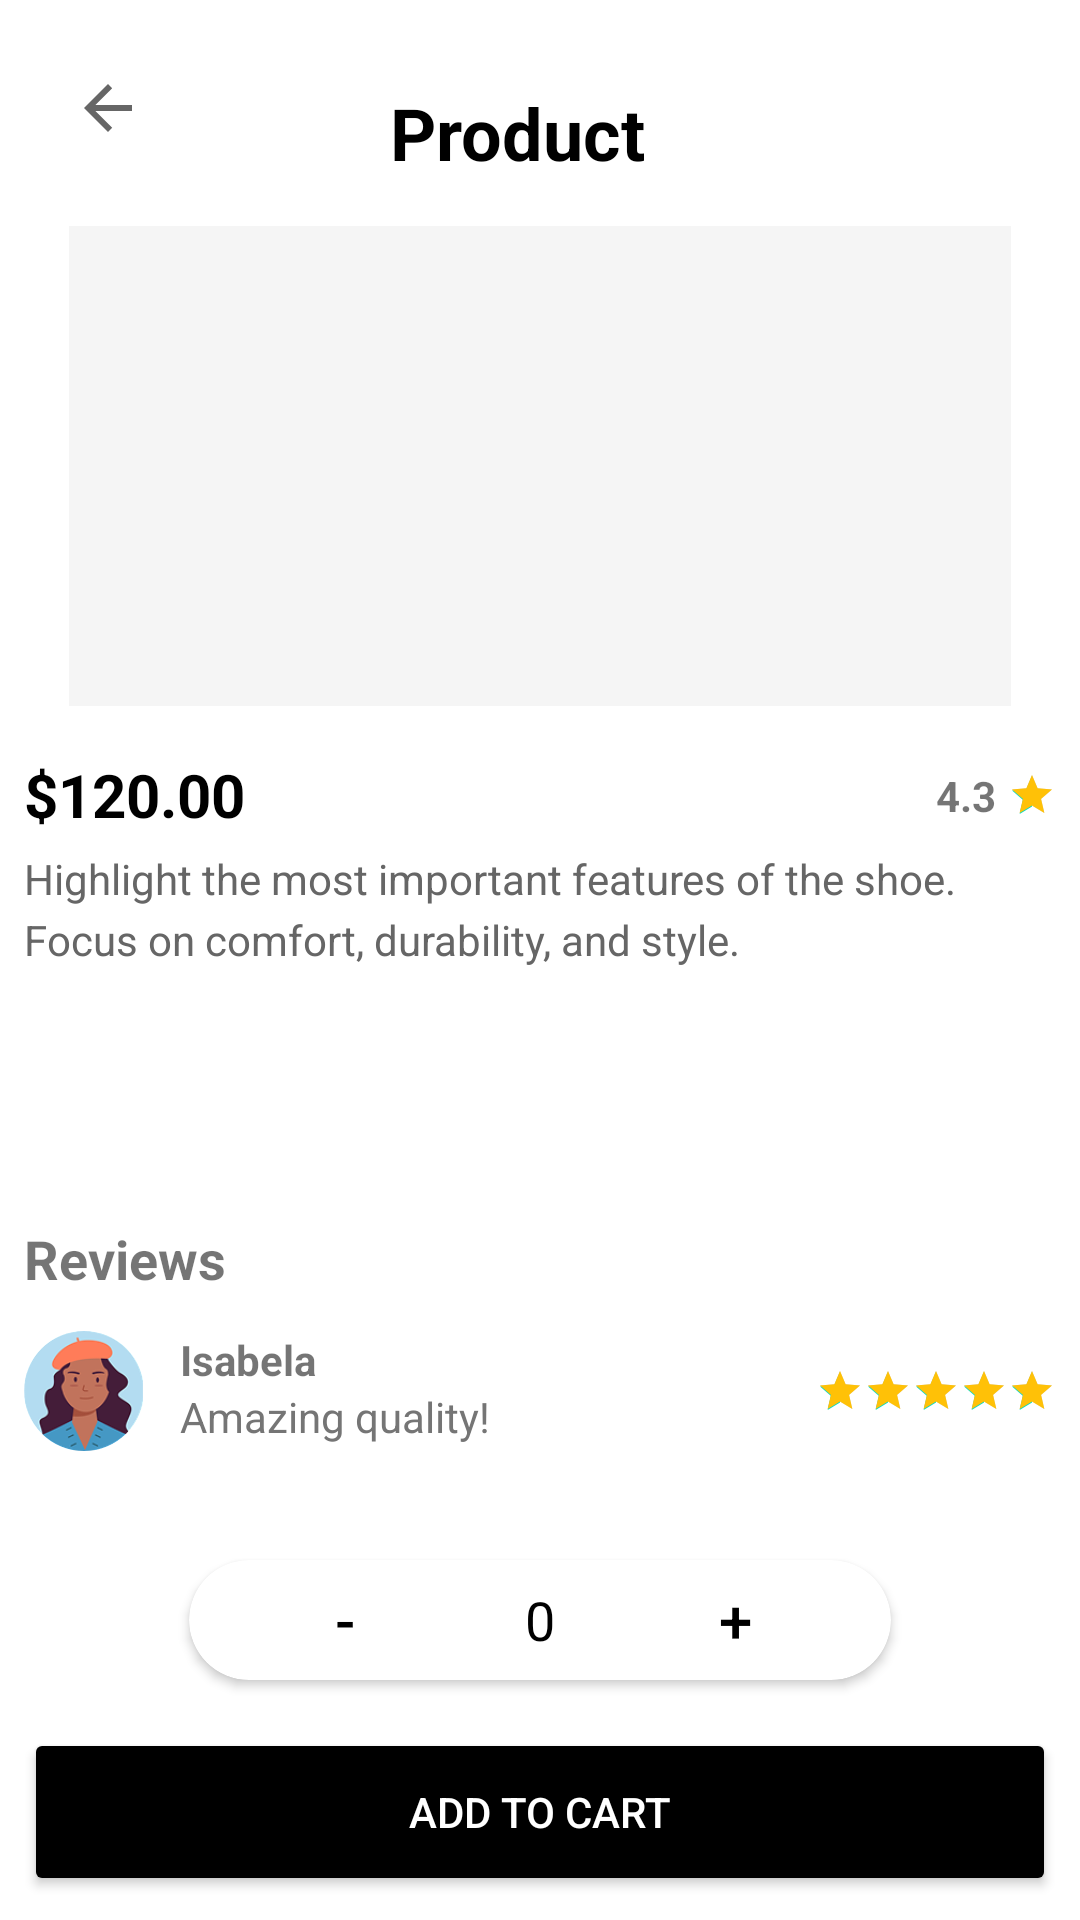

Icons on this 1080w x 1920h Android screen, each with its box as detection(x1, y1, x2, y2):
avatarpersongirl: detection(24, 1331, 143, 1451)
